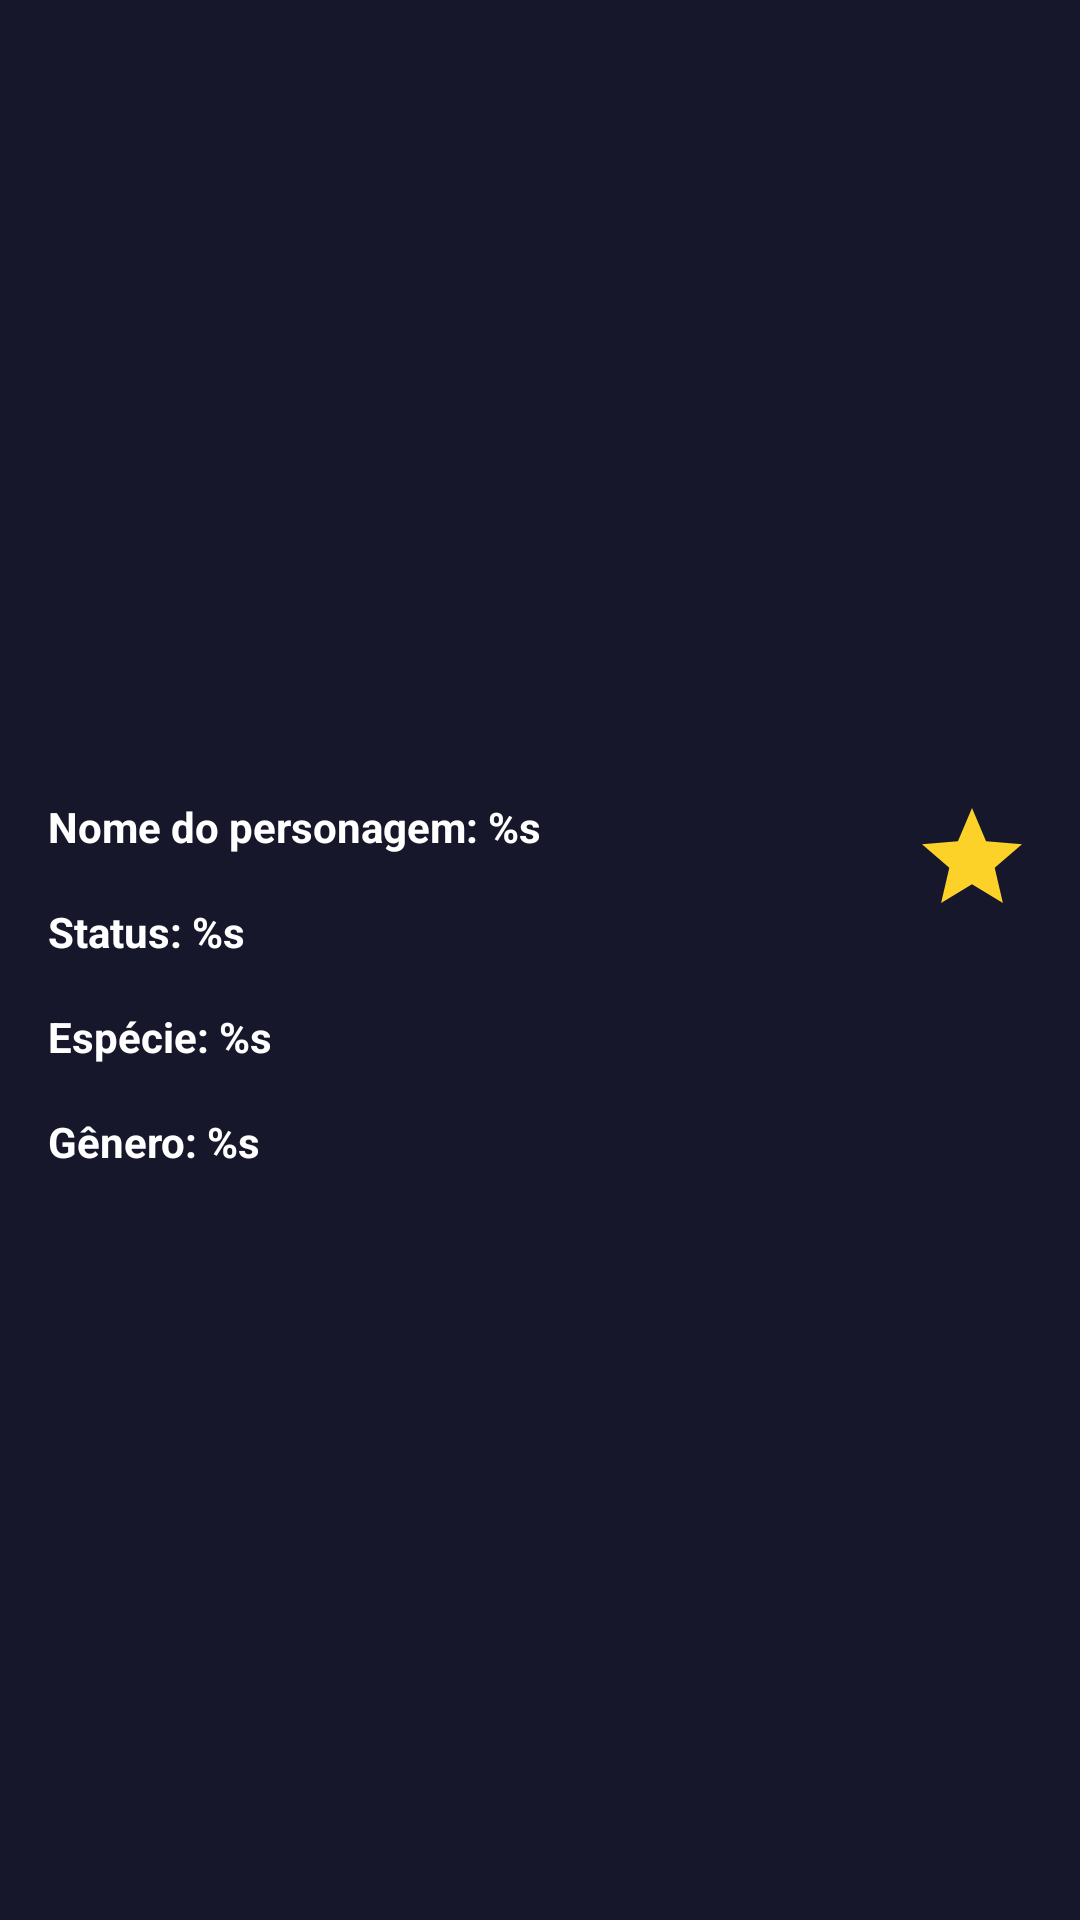

Icons on this 1080px×1920px Android screen, each with its box as [x1=x1, y1=y1, x2=x2, y2=y2]:
favorited: [x1=922, y1=808, x2=1022, y2=903]
